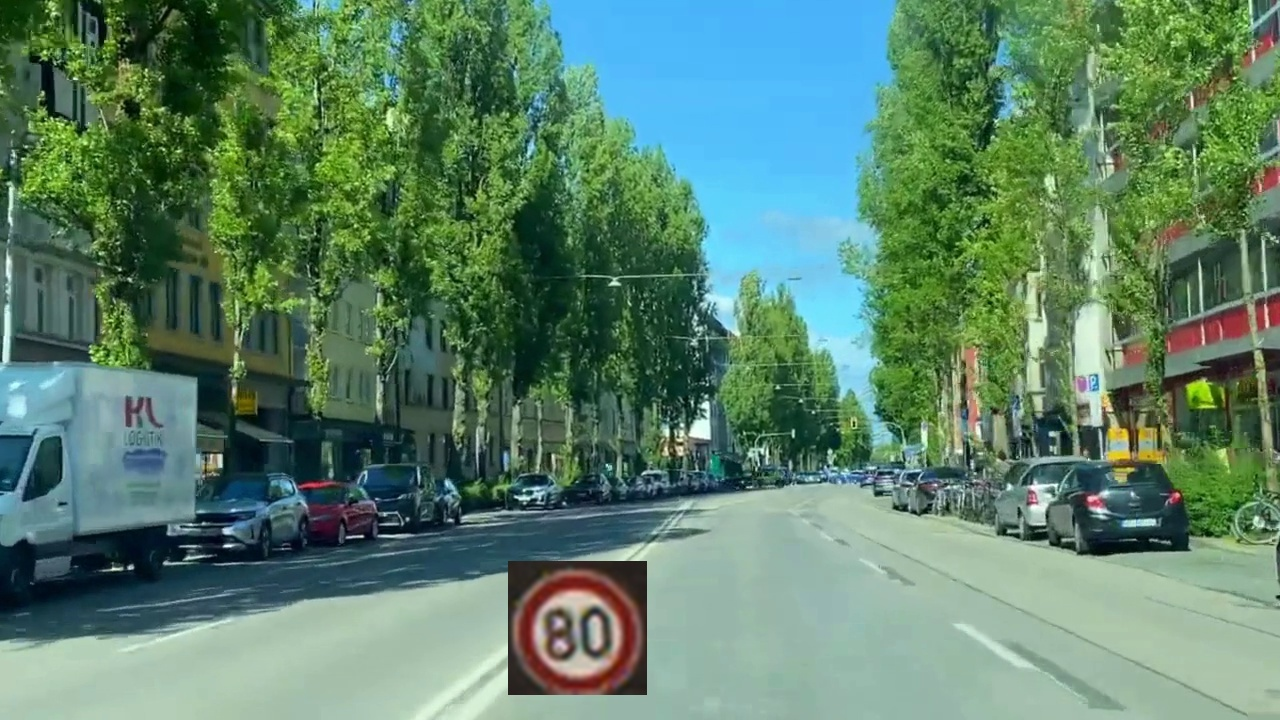Speed 80: (508, 561, 647, 695)
